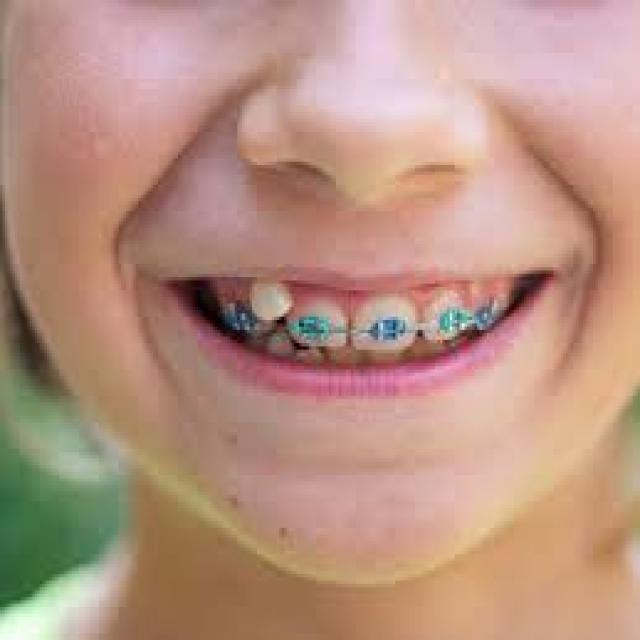tooth: (356, 290, 408, 350), (420, 287, 467, 333), (299, 300, 339, 340), (252, 280, 282, 320)
